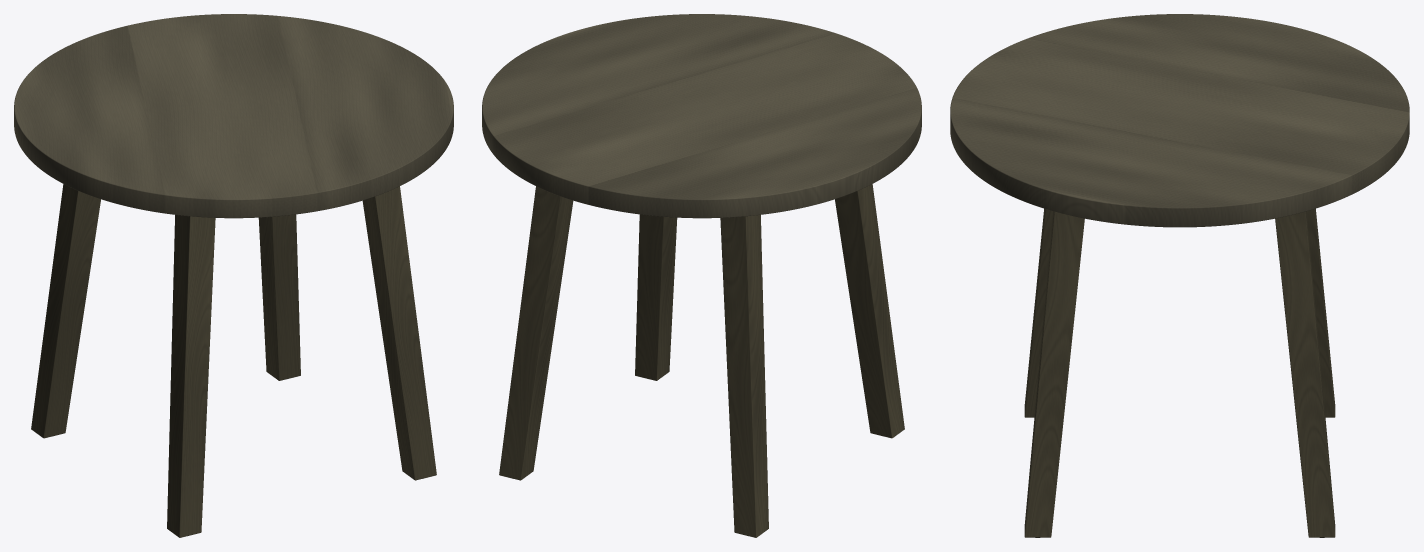
The model's file is dark_brown_circle_table.glb.
3 renders of one model, left to right at view 1: azimuth 30°, elevation 25°; view 2: azimuth 150°, elevation 25°; view 3: azimuth 270°, elevation 25°, orthographic. The views are drawn at different scales.
Visible parts, largest first — view 1: Round tabletop | diameter 55 cm, Splayed square wood leg 1, Splayed square wood leg 3, Splayed square wood leg 2, Splayed square wood leg 4; view 2: Round tabletop | diameter 55 cm, Splayed square wood leg 2, Splayed square wood leg 4, Splayed square wood leg 1, Splayed square wood leg 3; view 3: Round tabletop | diameter 55 cm, Splayed square wood leg 3, Splayed square wood leg 4, Splayed square wood leg 1, Splayed square wood leg 2.
Boxes of the visible parts, x1,y1,x2,y2 form: Round tabletop | diameter 55 cm: (14,14,453,218); Splayed square wood leg 1: (167,215,215,537); Splayed square wood leg 3: (362,186,436,480); Splayed square wood leg 2: (31,184,100,438); Splayed square wood leg 4: (258,214,300,380); Round tabletop | diameter 55 cm: (482,14,921,218); Splayed square wood leg 2: (720,215,768,537); Splayed square wood leg 4: (499,186,573,480); Splayed square wood leg 1: (835,184,904,438); Splayed square wood leg 3: (635,214,677,380); Round tabletop | diameter 55 cm: (950,14,1409,227); Splayed square wood leg 3: (1024,211,1084,537); Splayed square wood leg 4: (1275,211,1335,537); Splayed square wood leg 1: (1024,208,1052,417); Splayed square wood leg 2: (1307,208,1335,417).
Size of the model in its own units: 0.55 by 0.48 by 0.55.
5 materials, 3 textured.
